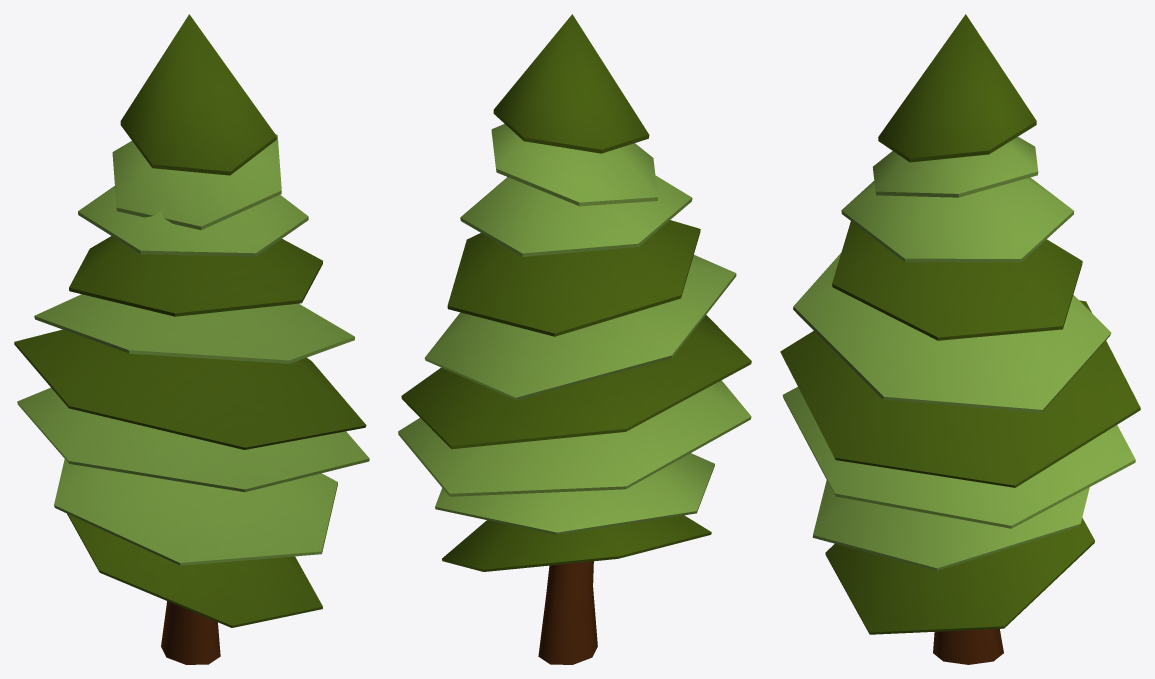
The model's file is TreePineLP_003.fbx.
3 views of the same model, side by side, from view 1: azimuth 30°, elevation 25°; view 2: azimuth 150°, elevation 25°; view 3: azimuth 270°, elevation 25° (orthographic).
Visible parts, largest first — view 1: TreePineLP_003; view 2: TreePineLP_003; view 3: TreePineLP_003.
Boxes of the visible parts, x1,y1,x2,y2 form: TreePineLP_003: [14, 14, 369, 664]; TreePineLP_003: [398, 14, 751, 664]; TreePineLP_003: [780, 14, 1140, 664].
Bounding box in the file's own units: 3.48 × 7.04 × 3.61.
